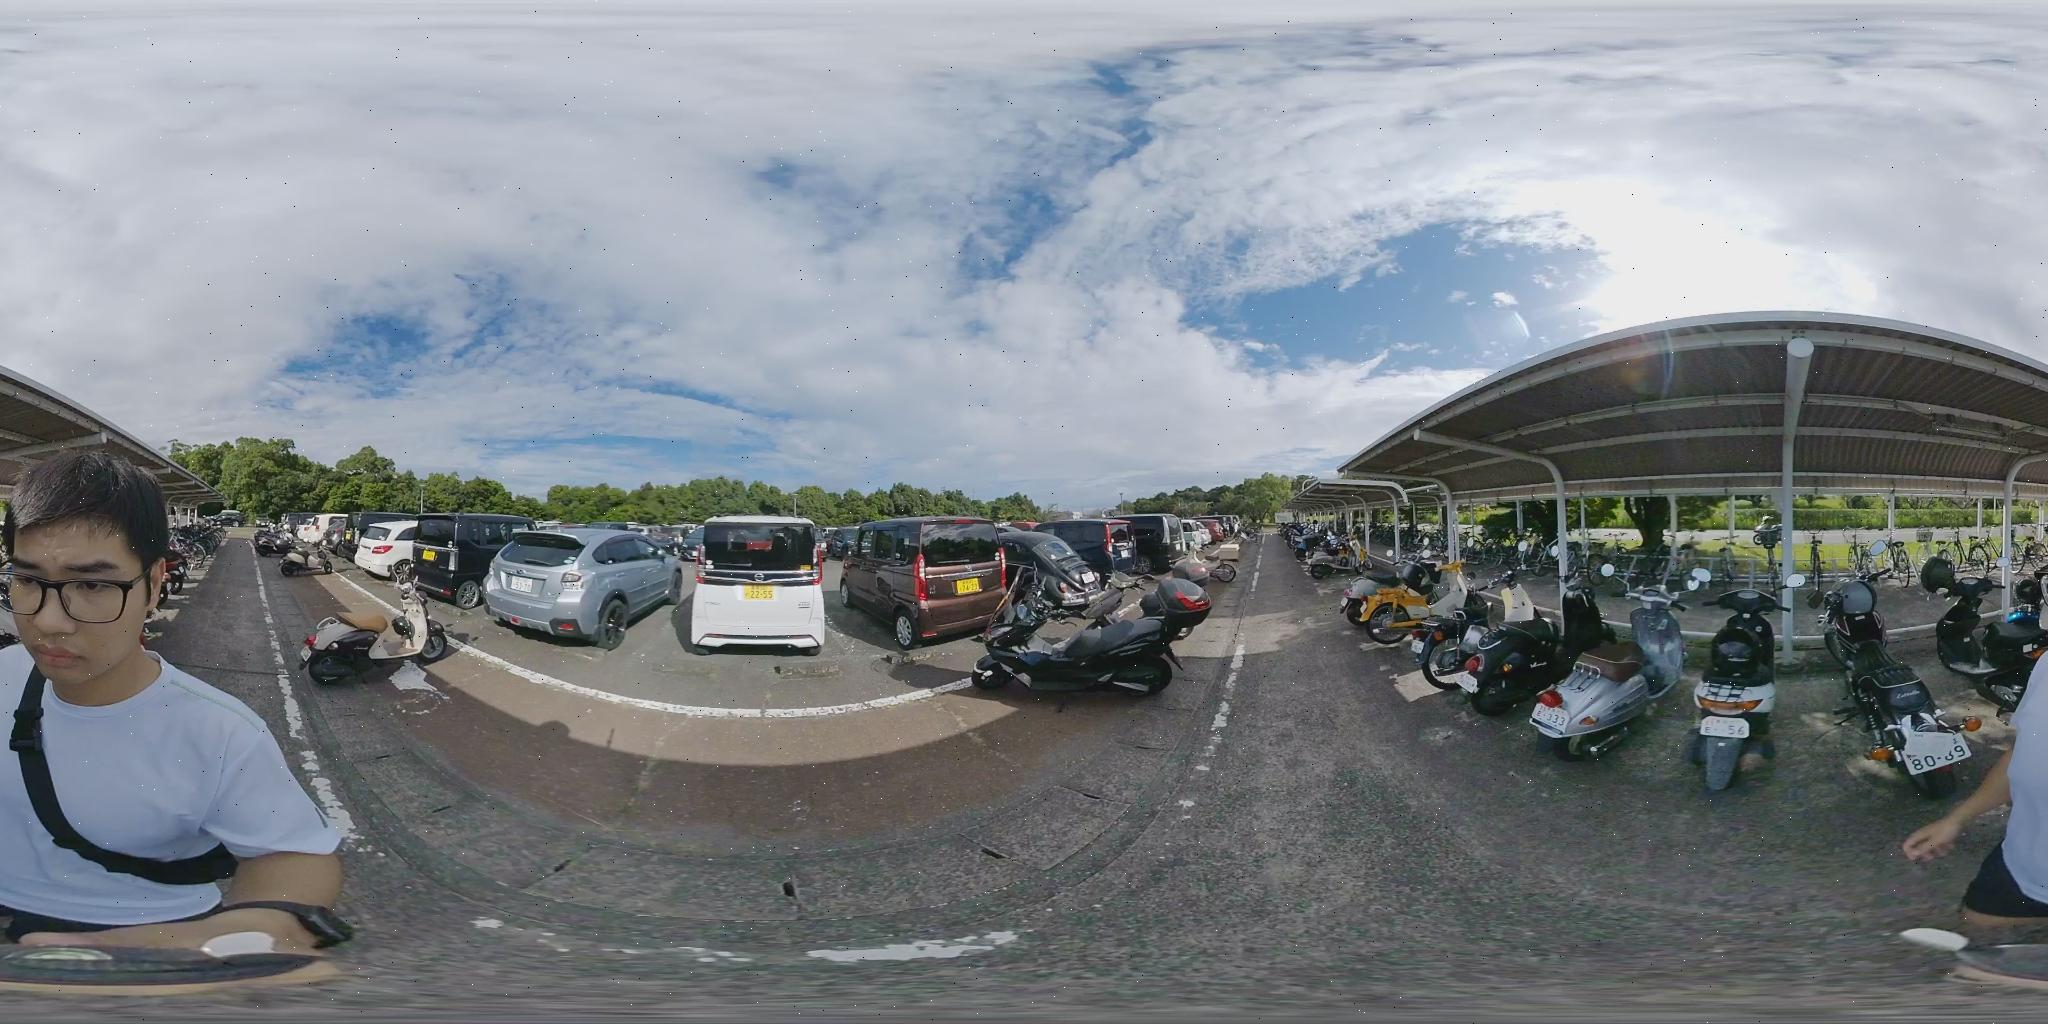car: (485, 529, 691, 648), (846, 519, 1006, 639), (696, 515, 828, 654)
